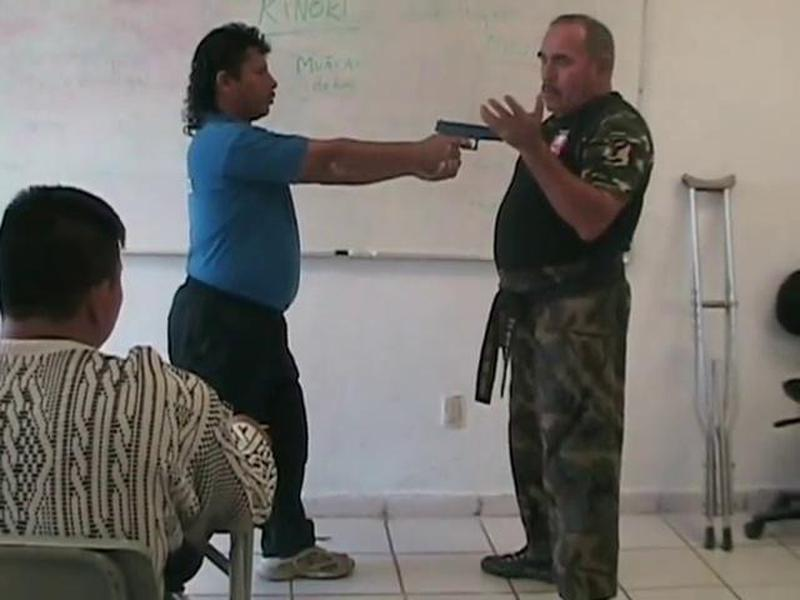Pistola: (415, 98, 534, 189)
